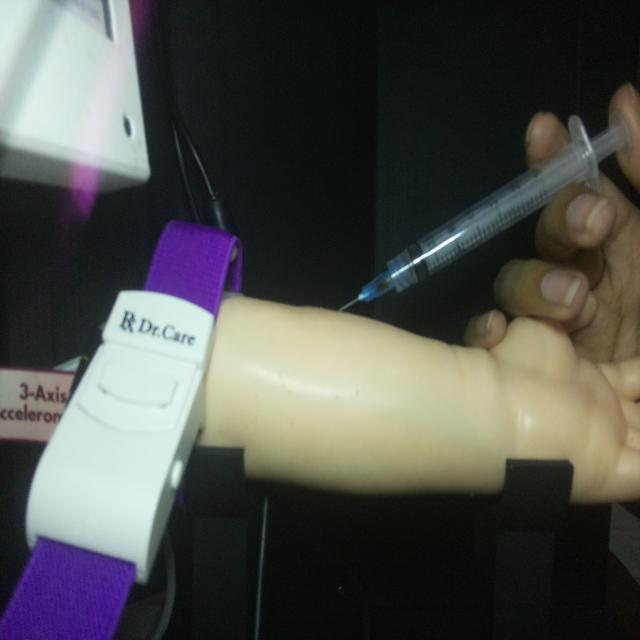22 degrees: (336, 108, 632, 314)
